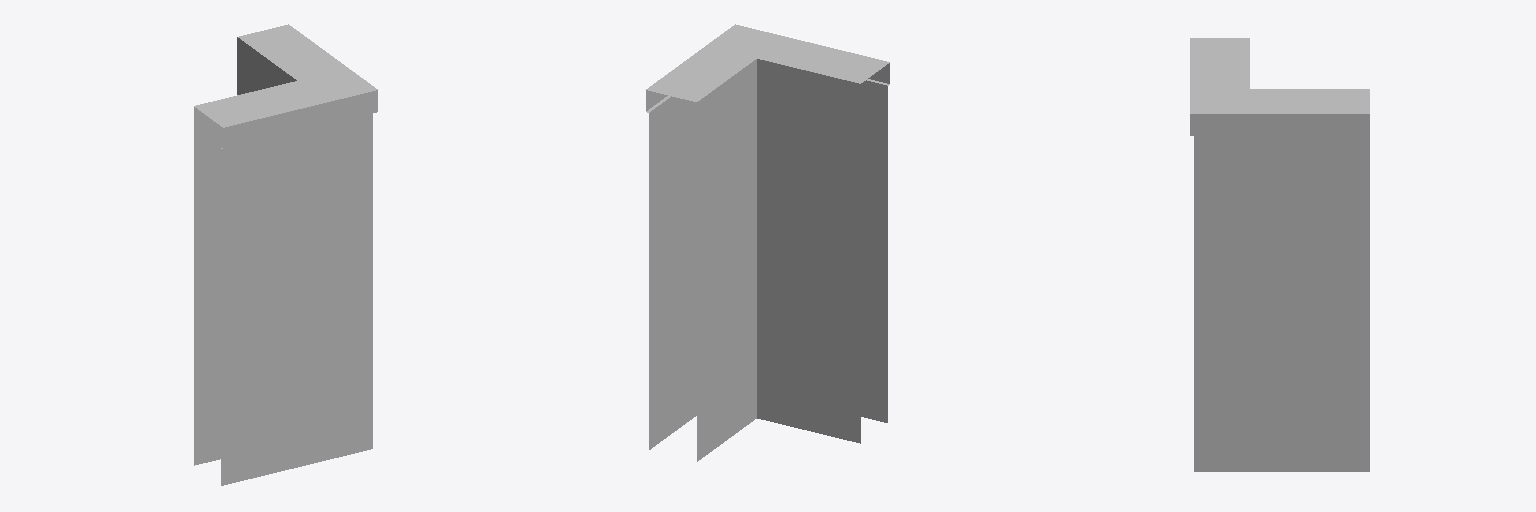
File: Building_Top_Corner_A_LOD1.obj
3 renders of one model, left to right at view 1: azimuth 30°, elevation 25°; view 2: azimuth 150°, elevation 25°; view 3: azimuth 270°, elevation 25°, orthographic.
Visible parts, largest first — view 1: Building_Top_Corner_A_LOD1 Building_Top_Corner_A; view 2: Building_Top_Corner_A_LOD1 Building_Top_Corner_A; view 3: Building_Top_Corner_A_LOD1 Building_Top_Corner_A.
Part boxes in pixels (x1,y1,x2,y2): Building_Top_Corner_A_LOD1 Building_Top_Corner_A: (194,24,377,485); Building_Top_Corner_A_LOD1 Building_Top_Corner_A: (646,24,889,461); Building_Top_Corner_A_LOD1 Building_Top_Corner_A: (1190,38,1369,471).
Bounding box in the file's own units: 205 × 453 × 205.